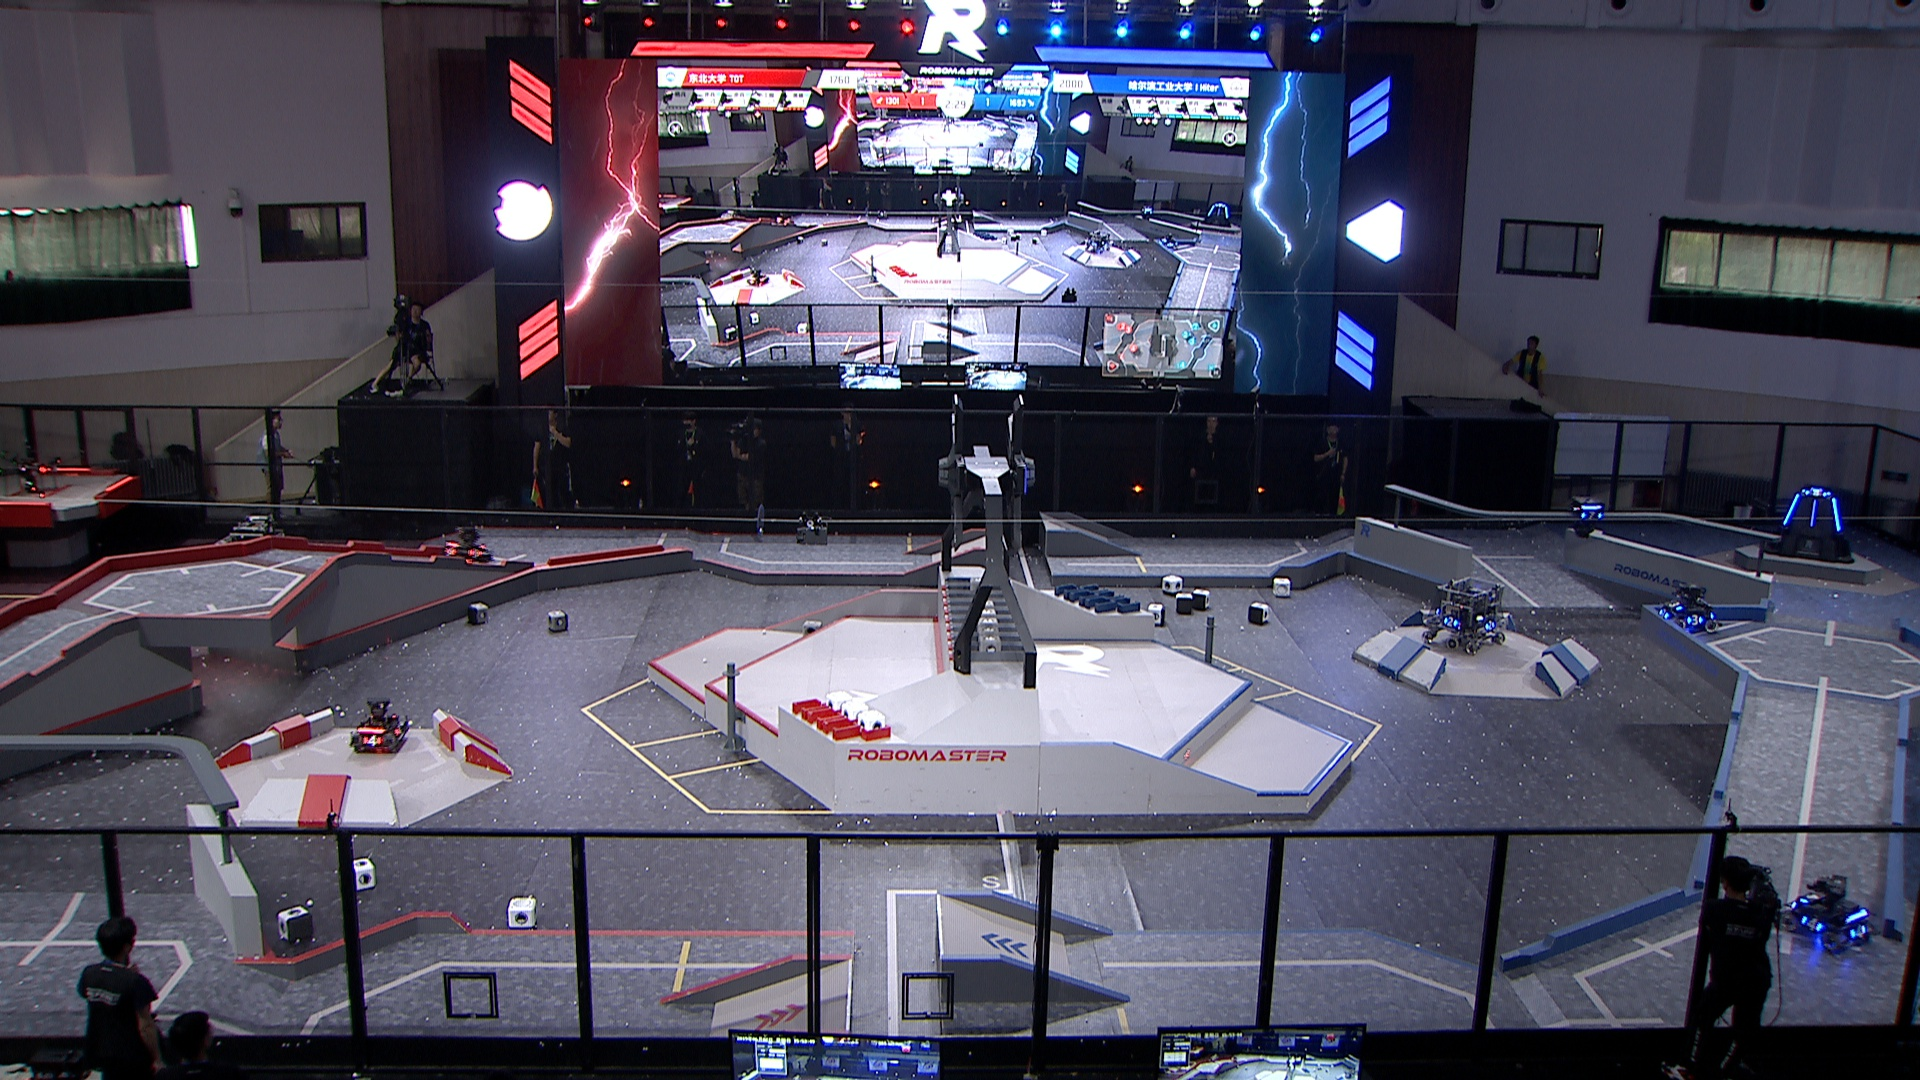armor: (1780, 493, 1803, 529), (1799, 913, 1826, 935), (1826, 496, 1842, 534), (1804, 496, 1821, 527), (1797, 887, 1822, 907), (1849, 920, 1869, 940), (1577, 510, 1605, 524), (361, 731, 381, 749), (1683, 611, 1704, 626), (1803, 487, 1830, 498), (1667, 597, 1685, 615), (389, 719, 405, 738), (443, 545, 460, 559), (465, 546, 484, 559), (1441, 616, 1460, 628), (1484, 618, 1498, 633), (1659, 607, 1669, 622)
base: (1759, 483, 1859, 568)
car: (1774, 868, 1876, 959), (1420, 574, 1513, 661), (202, 512, 290, 595), (348, 694, 415, 760), (1652, 580, 1721, 637), (436, 524, 495, 568)
ignore: (1079, 228, 1116, 256), (1205, 199, 1233, 229), (742, 266, 774, 287), (1158, 229, 1182, 251), (1138, 202, 1155, 223)
watcher: (1567, 491, 1610, 537)
